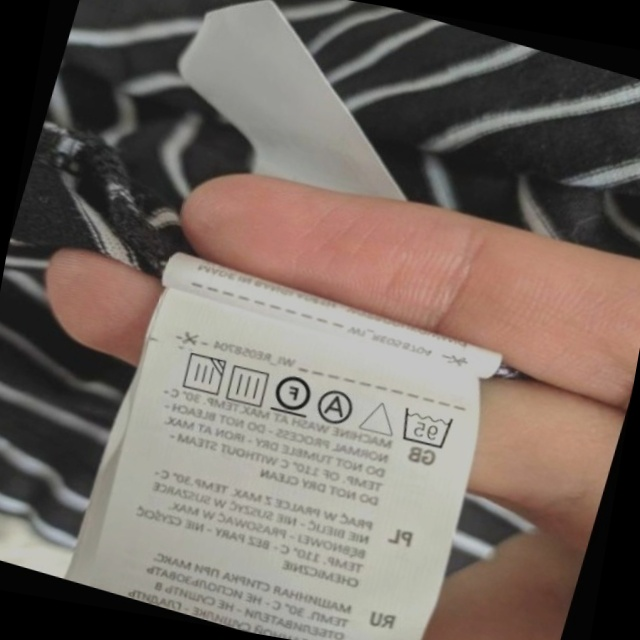95C: (392, 400, 459, 455)
bleach: (356, 391, 403, 442)
drip_dry: (220, 358, 275, 412)
drip_dry_in_shade: (173, 345, 230, 402)
dry_clean: (312, 383, 361, 430)
dry_clean_petrol_only: (267, 365, 318, 422)
